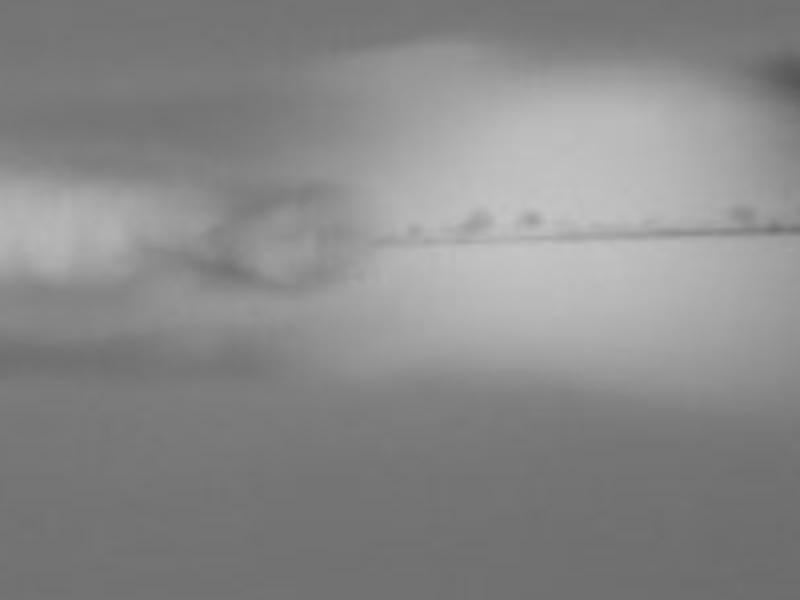defect: (718, 201, 757, 233), (457, 206, 495, 234), (515, 209, 544, 228), (406, 221, 428, 239), (767, 213, 782, 236)
